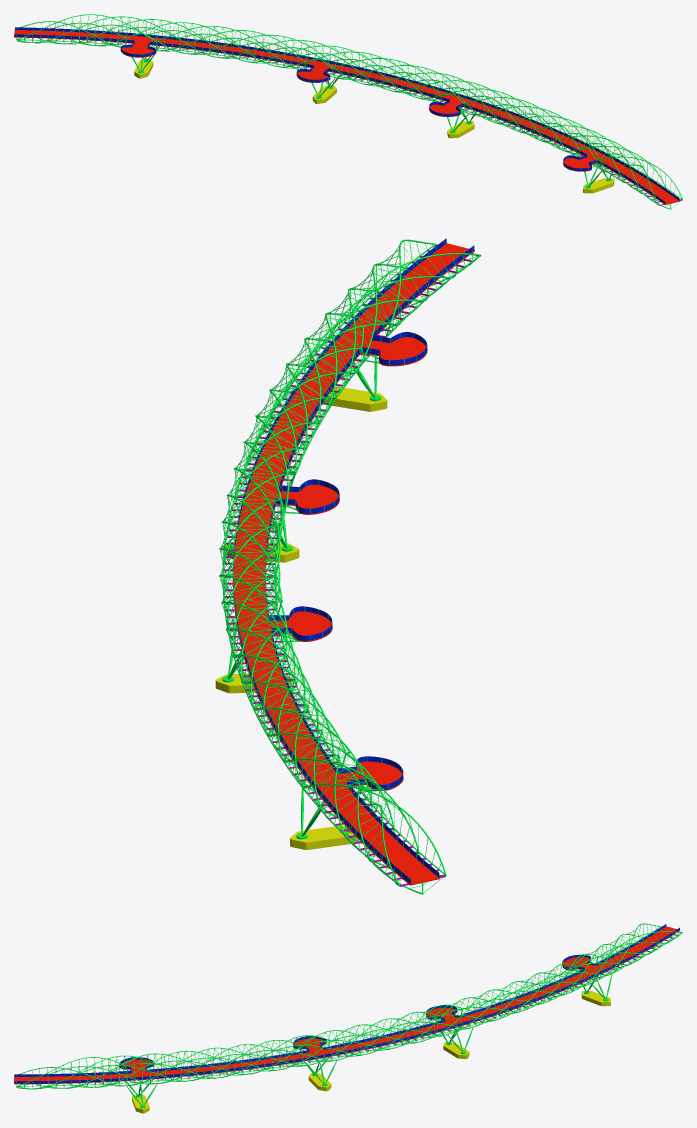
File: HelixBridge.fbx
3 renders of one model, top to bottom at view 1: azimuth 30°, elevation 25°; view 2: azimuth 150°, elevation 25°; view 3: azimuth 270°, elevation 25°, orthographic. The views are drawn at different scales.
Parts seen in each view (by area): view 1: helix8.001, helix6.001, helix1, helix2, helix3, helix9, helix10, helixcurve, helix11, helix12, helix5; view 2: helix8.001, helix1, helix2, helix6.001, helix3, helixcurve, helix9, helix12, helix10; view 3: helix8.001, helix1, helix6.001, helix2, helix3, helix9, helix10, helix11, helixcurve, helix5, helix12.
Boxes of the visible parts, box(x1,y1,x2,y2) form: helix8.001: box(14, 30, 679, 204); helix6.001: box(14, 27, 679, 203); helix1: box(17, 15, 680, 209); helix2: box(16, 14, 682, 208); helix3: box(17, 21, 682, 209); helix9: box(134, 58, 614, 193); helix10: box(17, 39, 681, 204); helixcurve: box(65, 15, 660, 179); helix11: box(131, 43, 612, 186); helix12: box(16, 38, 682, 205); helix5: box(16, 27, 678, 203); helix8.001: box(232, 243, 474, 885); helix1: box(219, 241, 477, 893); helix2: box(219, 239, 480, 894); helix6.001: box(233, 238, 474, 884); helix3: box(222, 244, 480, 894); helixcurve: box(221, 242, 437, 832); helix9: box(215, 386, 387, 849); helix12: box(224, 244, 480, 886); helix10: box(222, 244, 479, 884); helix8.001: box(14, 926, 680, 1084); helix1: box(16, 924, 680, 1088); helix6.001: box(14, 924, 679, 1083); helix2: box(16, 923, 681, 1089); helix3: box(16, 927, 682, 1089); helix9: box(132, 990, 610, 1113); helix10: box(18, 927, 681, 1086); helix11: box(125, 974, 612, 1106); helixcurve: box(48, 926, 651, 1078); helix5: box(16, 927, 678, 1083); helix12: box(16, 926, 680, 1086).
Bounding box in the file's own units: 13685 × 1973 × 24069.
